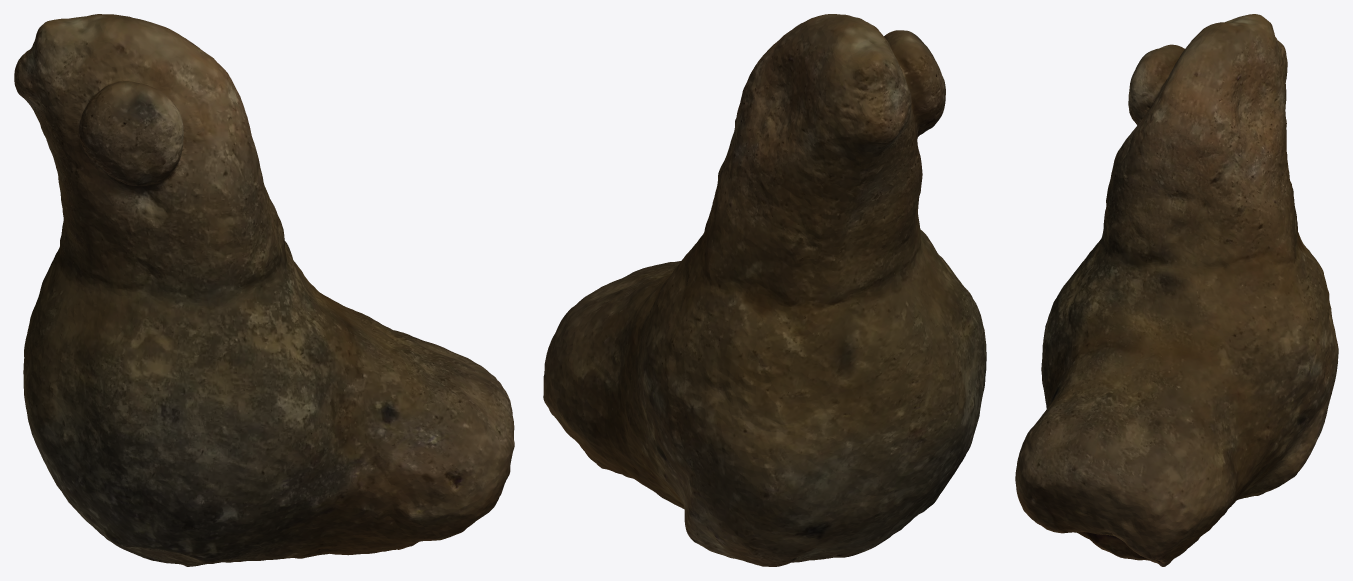
3 renders of one model, left to right at view 1: azimuth 30°, elevation 25°; view 2: azimuth 150°, elevation 25°; view 3: azimuth 270°, elevation 25°, orthographic. The views are drawn at different scales.
Visible parts, largest first — view 1: Mesh_0.003; view 2: Mesh_0.003; view 3: Mesh_0.003.
Boxes of the visible parts, x1=… form: Mesh_0.003: x1=14, y1=14, x2=514, y2=566; Mesh_0.003: x1=543, y1=14, x2=986, y2=566; Mesh_0.003: x1=1015, y1=14, x2=1338, y2=566.
Size of the model in its own units: 0.0829 by 0.1013 by 0.0668.
1 material, 1 textured.
